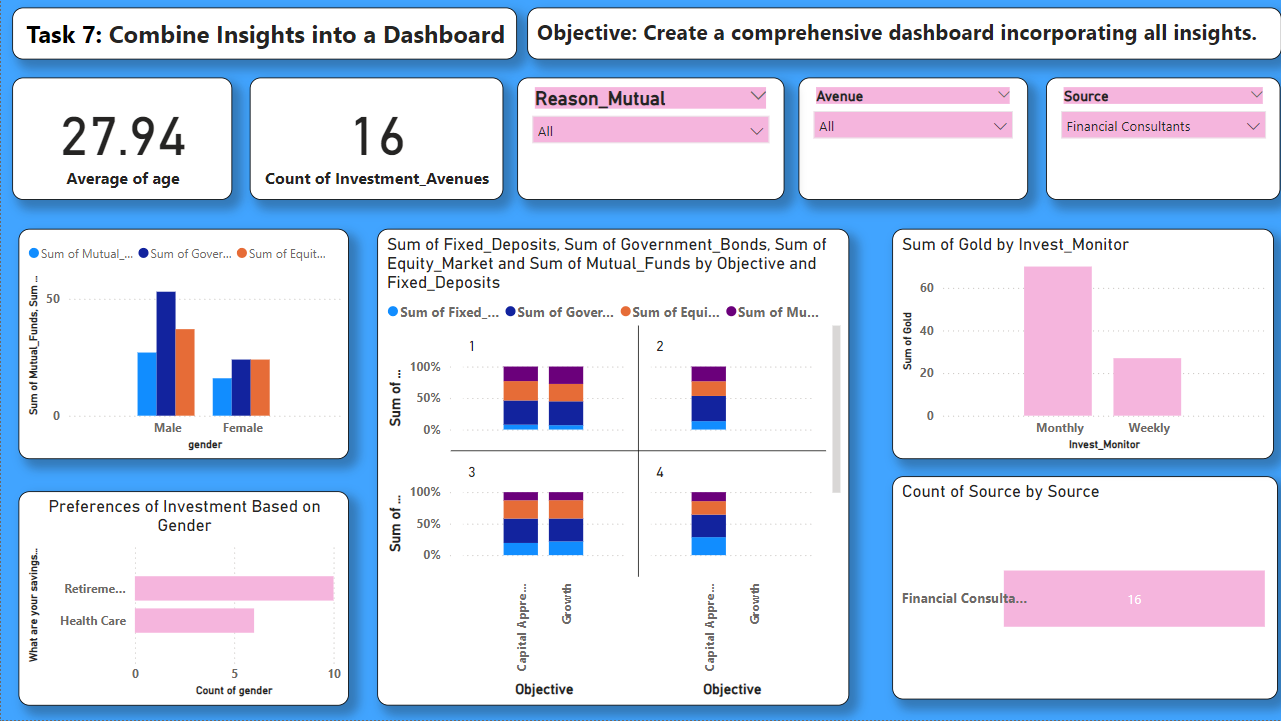

Layout of this report page (visuals, bound fields, positions):
{"tool":"powerbi","page":{"name":"Task 7","canvas":[1280,720],"ordinal":6},"visuals":[{"type":"textbox","box":[10.7,7.2,505.1,51.9],"z":0},{"type":"textbox","box":[525.7,7.2,754,51.9],"z":1000},{"type":"funnel","fields":{"Y":["CountNonNull(Data_set 2.Source)"],"Category":["Data_set 2.Source"]},"box":[891,476.4,386,223],"z":2000},{"type":"slicer","fields":{"Values":["Data_set 2.Source"]},"box":[1045.1,77.9,234.6,122.7],"z":3000},{"type":"card","fields":{"Values":["Avg(Data_set 2.age)"]},"box":[10.7,77.9,220.3,122.7],"z":4000},{"type":"card","fields":{"Values":["CountNonNull(Data_set 2.Investment_Avenues)"]},"box":[249,77.9,253.4,122.7],"z":5000},{"type":"slicer","fields":{"Values":["Data_set 2.Avenue"]},"box":[797.9,77.9,229.3,122.7],"z":6000},{"type":"slicer","fields":{"Values":["Data_set 2.Reason_Mutual"]},"box":[515.8,77.9,266.9,122.7],"z":7000},{"type":"barChart","title":"Preferences of Investment Based on Gender","fields":{"Category":["Data_set 2.What are your savings objectives?"],"Y":["CountNonNull(Data_set 2.gender)"]},"box":[17,490.7,330.4,214],"z":8000},{"type":"clusteredColumnChart","fields":{"Y":["Sum(Data_set 2.Mutual_Funds)","Sum(Data_set 2.Government_Bonds)","Sum(Data_set 2.Equity_Market)"],"Category":["Data_set 2.gender"]},"box":[17,228.4,330.4,230.1],"z":9000},{"type":"hundredPercentStackedColumnChart","fields":{"Y":["Sum(Data_set 2.Fixed_Deposits)","Sum(Data_set 2.Government_Bonds)","Sum(Data_set 2.Equity_Market)","Sum(Data_set 2.Mutual_Funds)"],"Rows":["Data_set 2.Fixed_Deposits"],"Category":["Data_set 2.Objective"]},"box":[376.1,228.4,471.9,476.4],"z":10000},{"type":"columnChart","fields":{"Category":["Data_set 2.Invest_Monitor"],"Y":["Sum(Data_set 2.Gold)"]},"box":[891,228.4,381.5,230.1],"z":11000}]}

Visuals, with their boxes in screenshot pixels (x1, y1, x2, y2), scaled from the page's 1280x720 canvas onto the 1281x721 screenshot:
textbox: 11 7 516 59
textbox: 526 7 1280 59
funnel - CountNonNull(Data_set 2.Source) x Data_set 2.Source: 892 477 1278 700
slicer - Data_set 2.Source: 1046 78 1280 201
card - Avg(Data_set 2.age): 11 78 231 201
card - CountNonNull(Data_set 2.Investment_Avenues): 249 78 503 201
slicer - Data_set 2.Avenue: 799 78 1028 201
slicer - Data_set 2.Reason_Mutual: 516 78 783 201
"Preferences of Investment Based on Gender" barChart: 17 491 348 706
clusteredColumnChart - Sum(Data_set 2.Mutual_Funds) x Sum(Data_set 2.Government_Bonds): 17 229 348 459
hundredPercentStackedColumnChart - Sum(Data_set 2.Fixed_Deposits) x Sum(Data_set 2.Government_Bonds): 376 229 849 706
columnChart - Data_set 2.Invest_Monitor x Sum(Data_set 2.Gold): 892 229 1273 459
